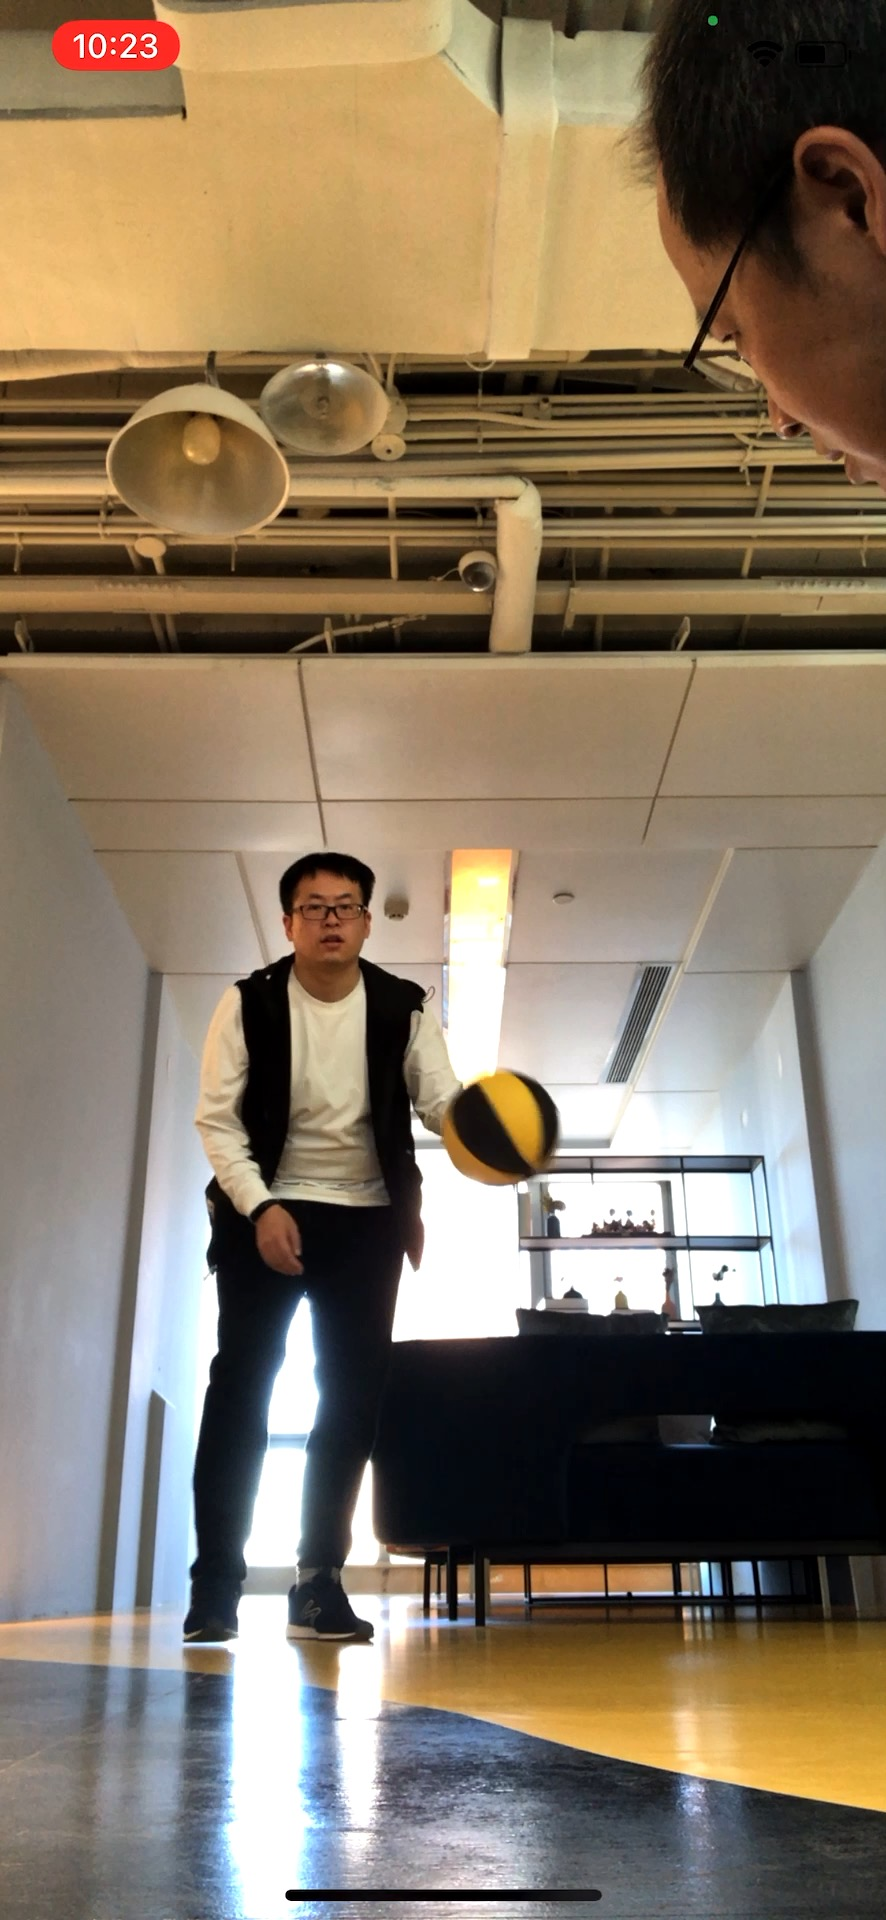ball: (441, 1070, 559, 1187)
